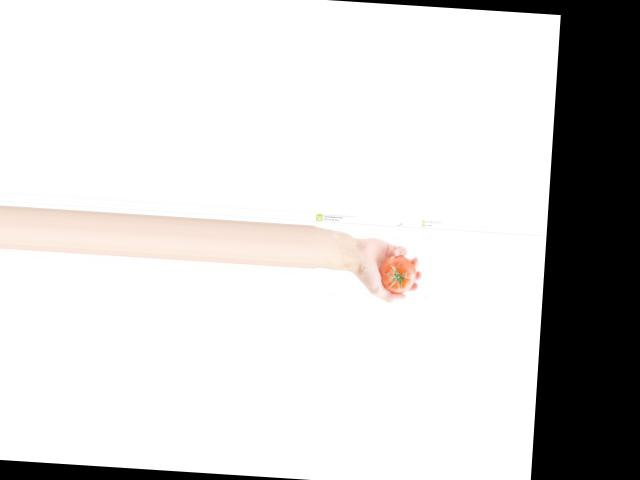tomato: (379, 253, 417, 293)
